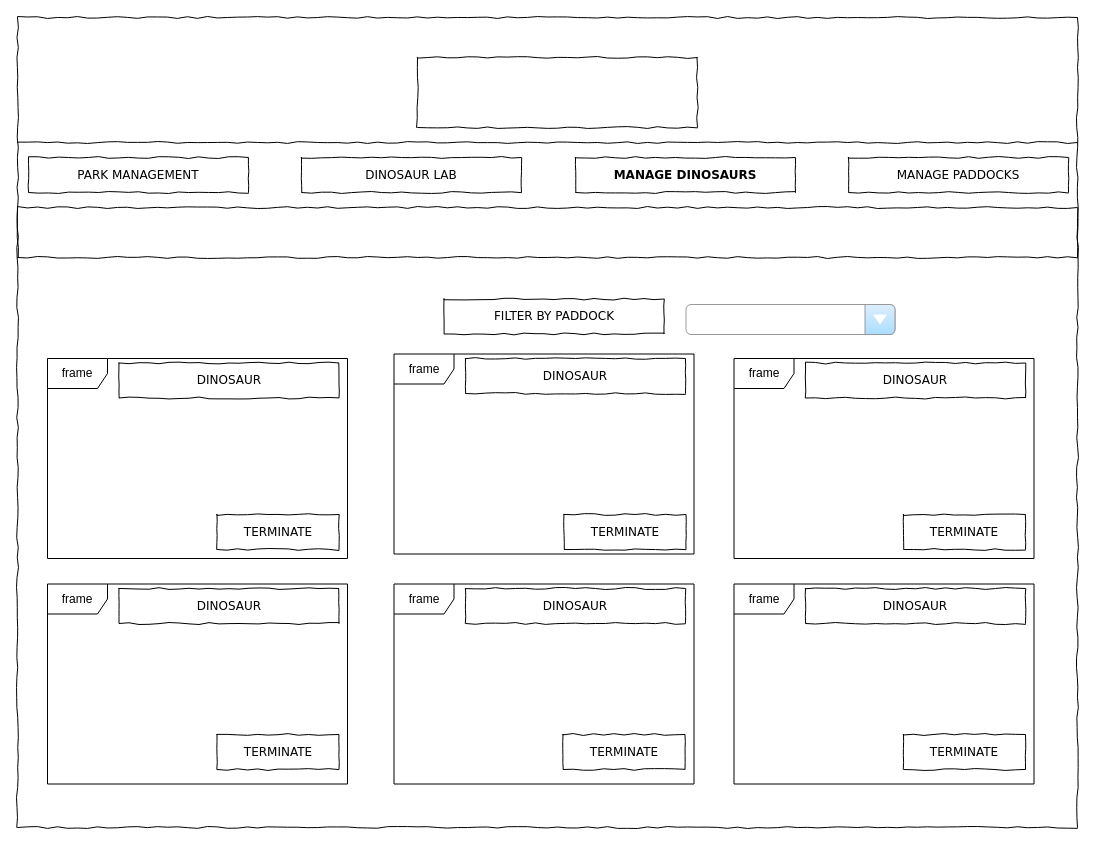
Image size: 1095x845. Some labels were removed from this diagram. Each missing label, with the centre of its shape:
"DINOSAURS" goes at (x=547, y=232).
"EAST PADDOCK" goes at (x=790, y=319).
"LOGO" goes at (x=557, y=92).
